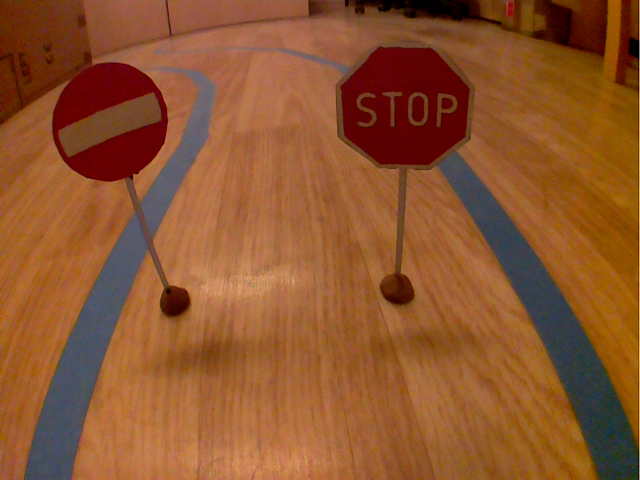Stop: (331, 38, 480, 174)
Zakaz: (47, 59, 171, 187)
